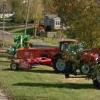Tractor: (10, 32, 100, 86)
